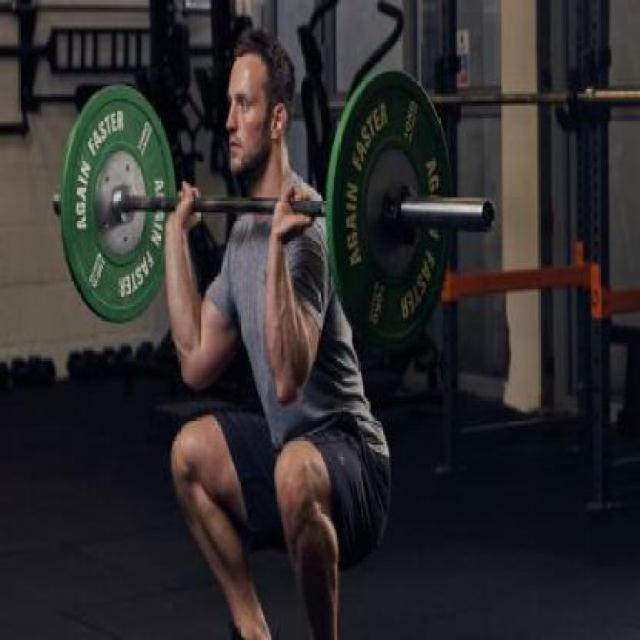Barbell: (478, 192, 498, 236)
